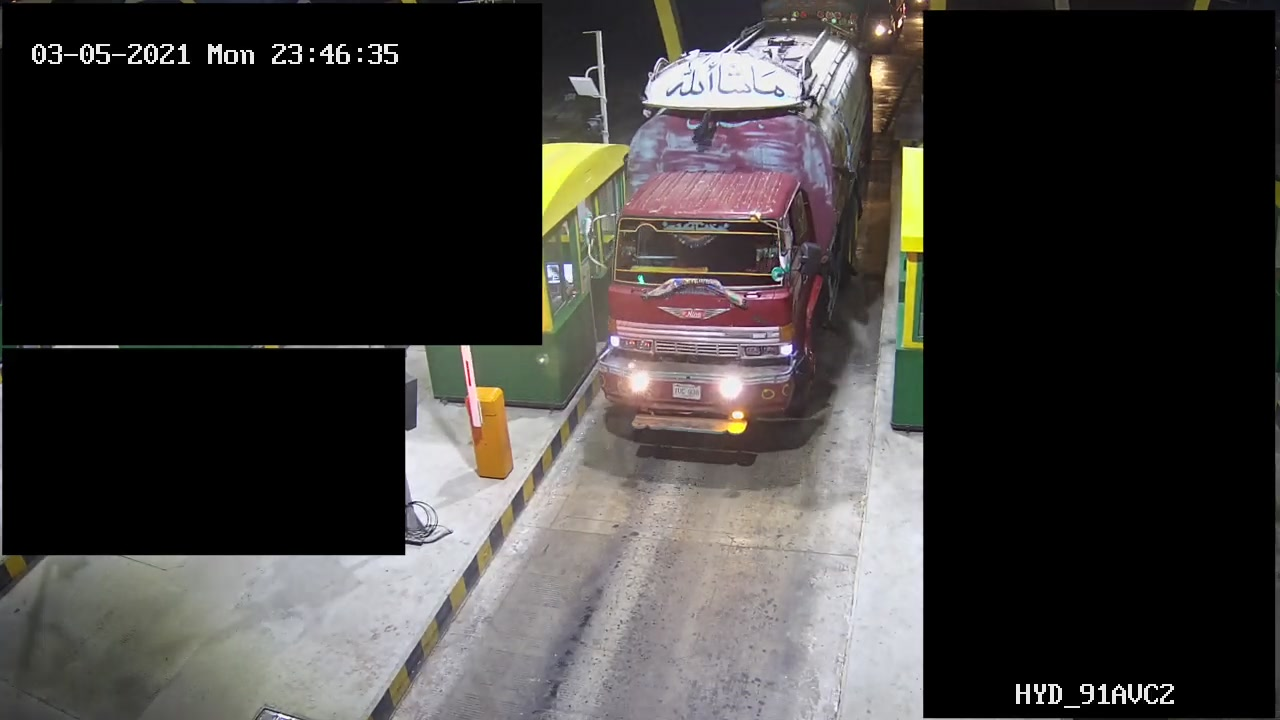F6: (591, 27, 873, 463)
